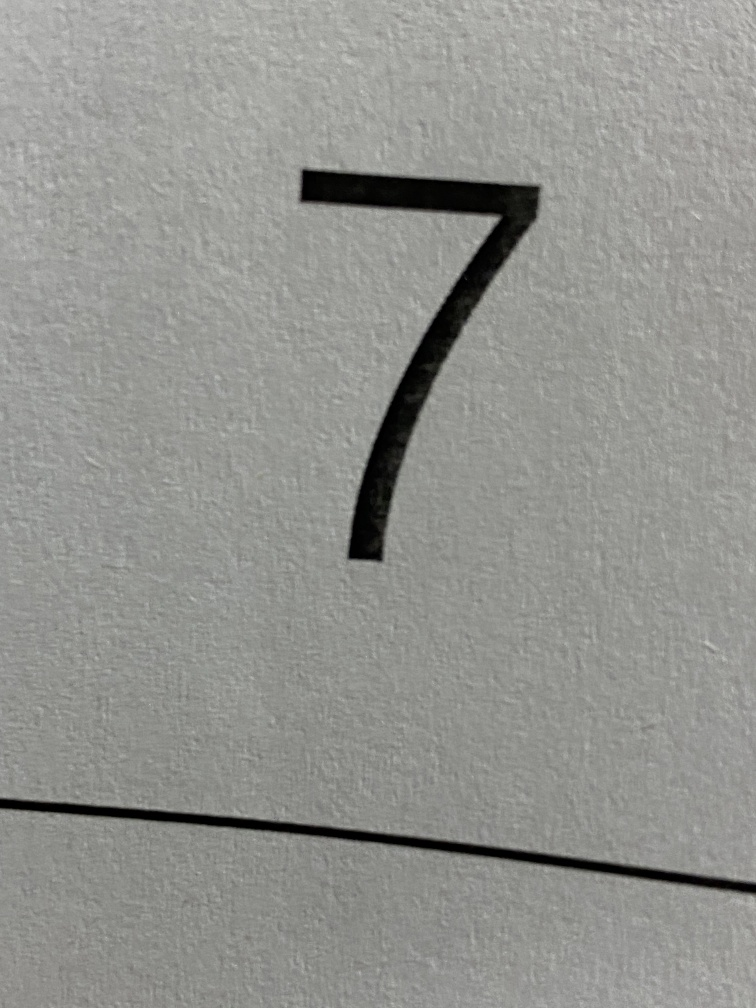seven: (217, 83, 614, 648)
